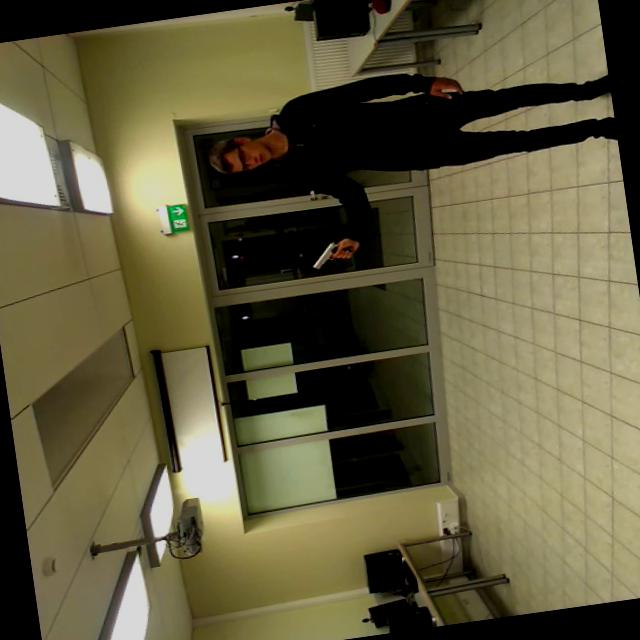handgun: (302, 222, 368, 279)
